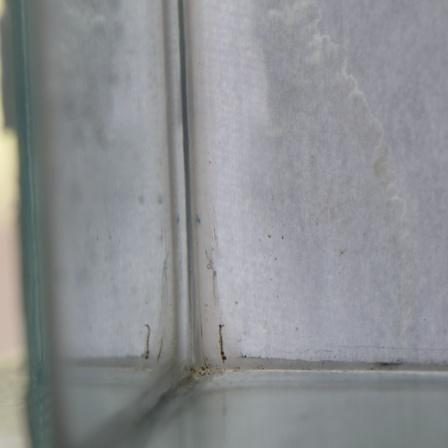Jentik-Nyamuk: (213, 320, 232, 364)
